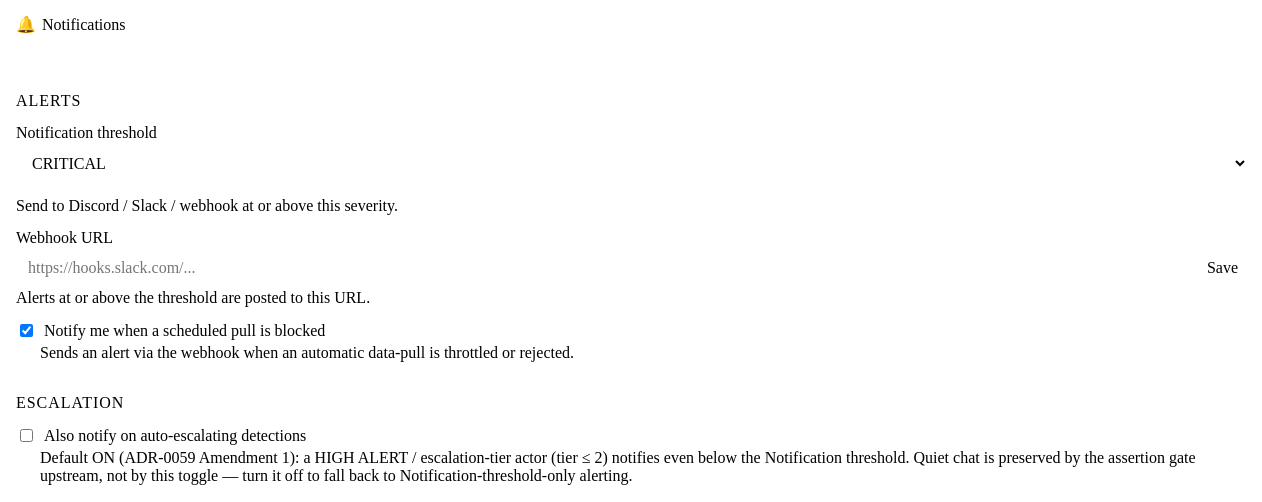
Test: NotificationsPanel — NotifyOnAutoEscalateToggle › shows success toast after enabling notify_on_auto_escalate
What coordinates should you click on to do the following:
click the checkbox with test id "notify-on-auto-escalate-toggle"
I would click on:
 (26, 436)
Its box is [20,429,33,442].
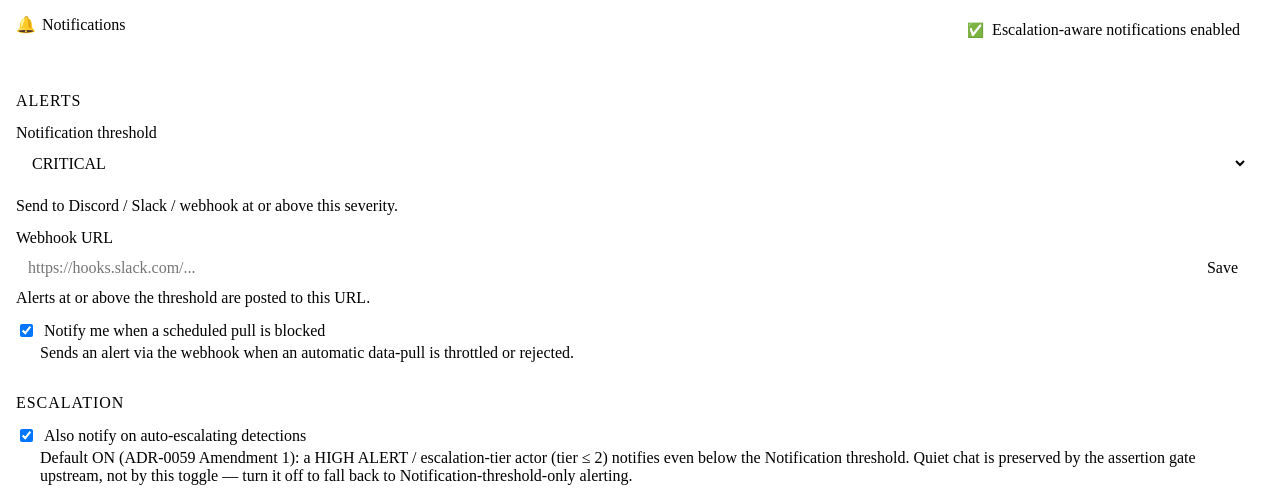
Result: the message shows "enabled" at [992,21,1240,38]
